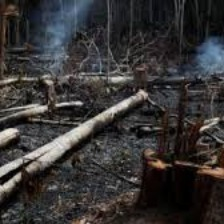incendio: (39, 12, 85, 90), (191, 38, 222, 79)
